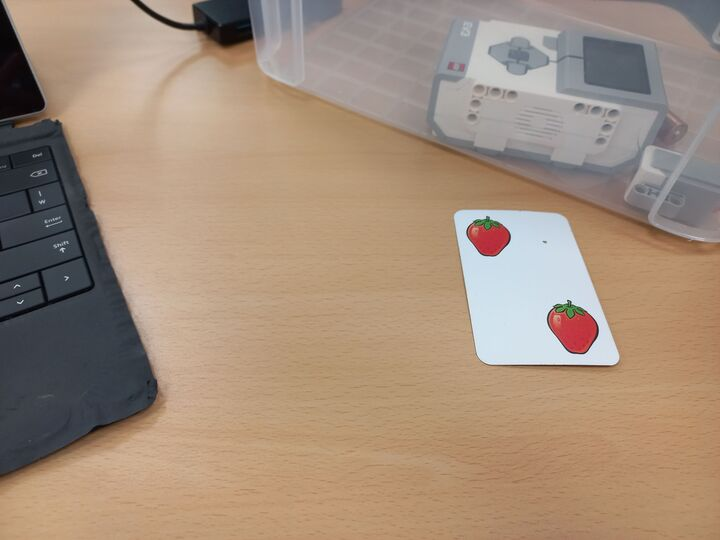strawberry2: (452, 207, 621, 370)
